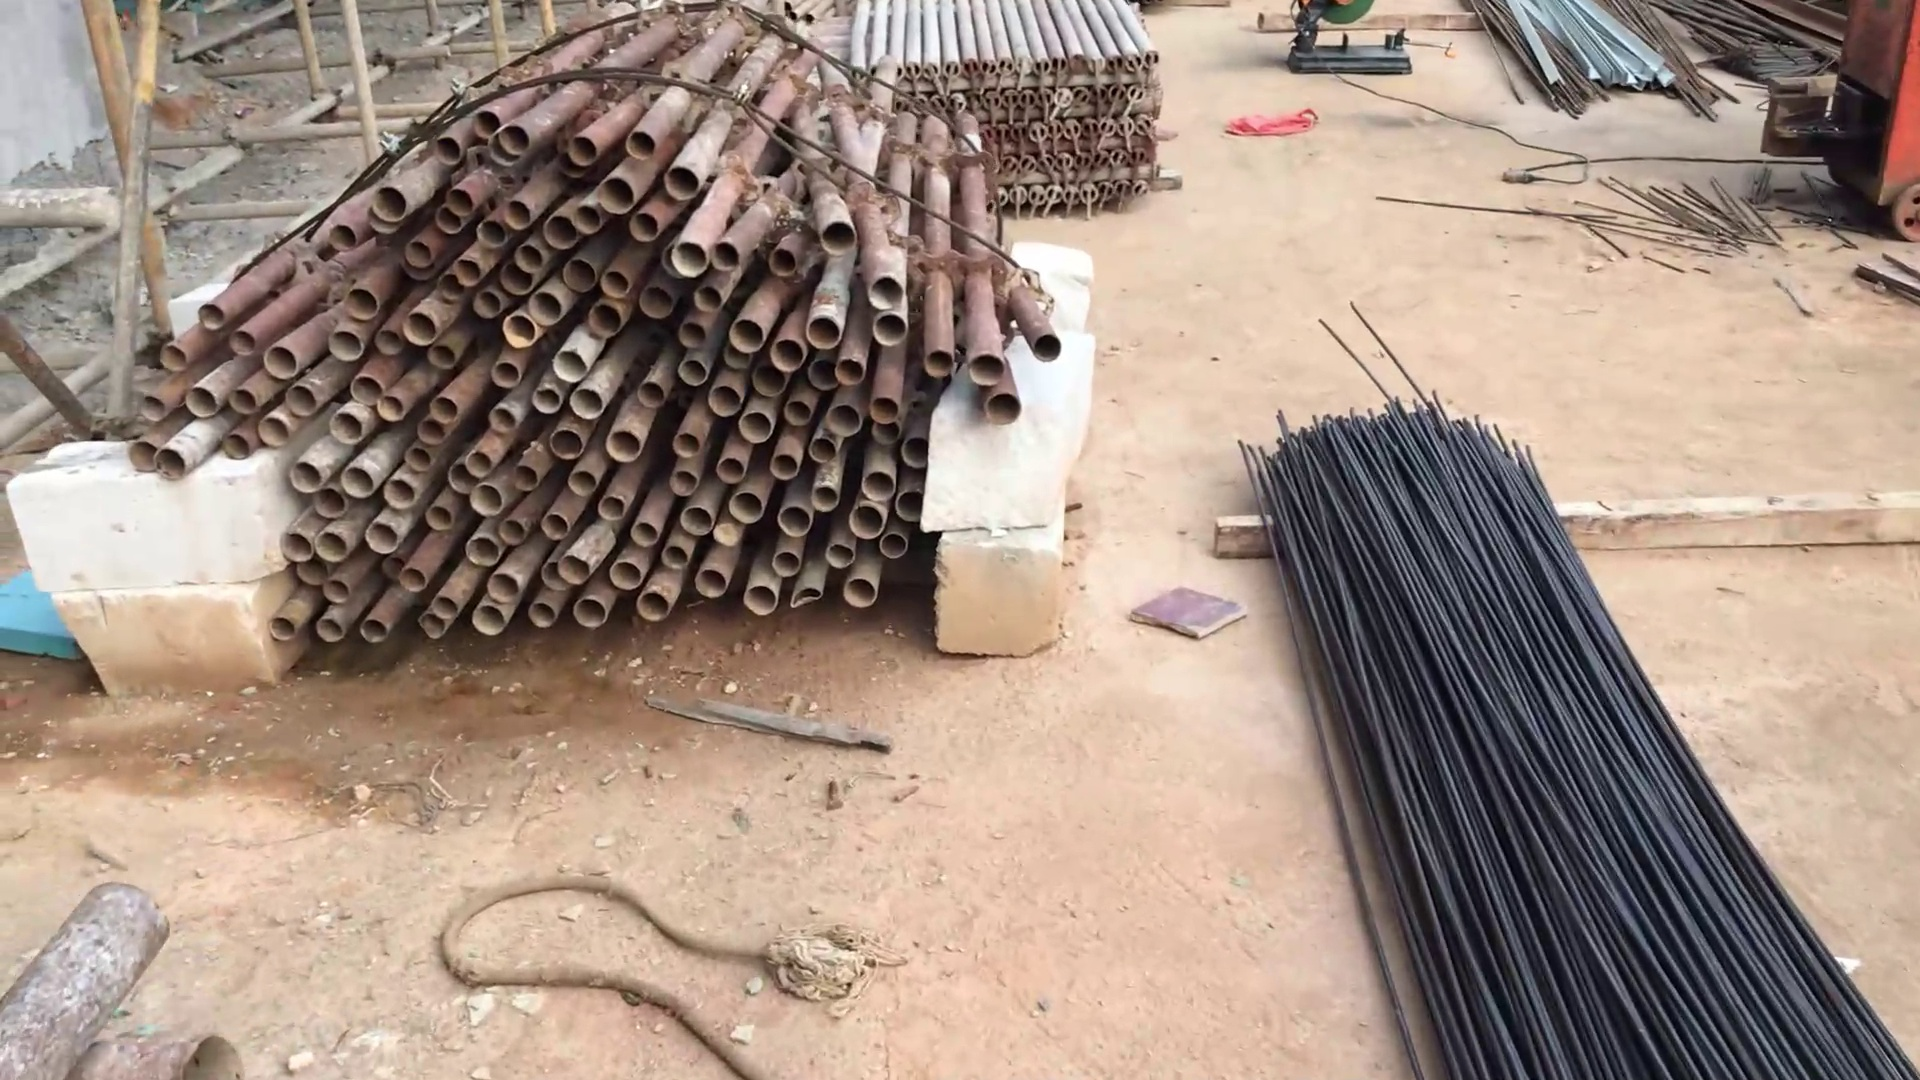cutter: (1275, 8, 1423, 87)
rebar: (1211, 378, 1920, 1077)
scaffold: (115, 7, 1076, 628), (832, 5, 1168, 216)
